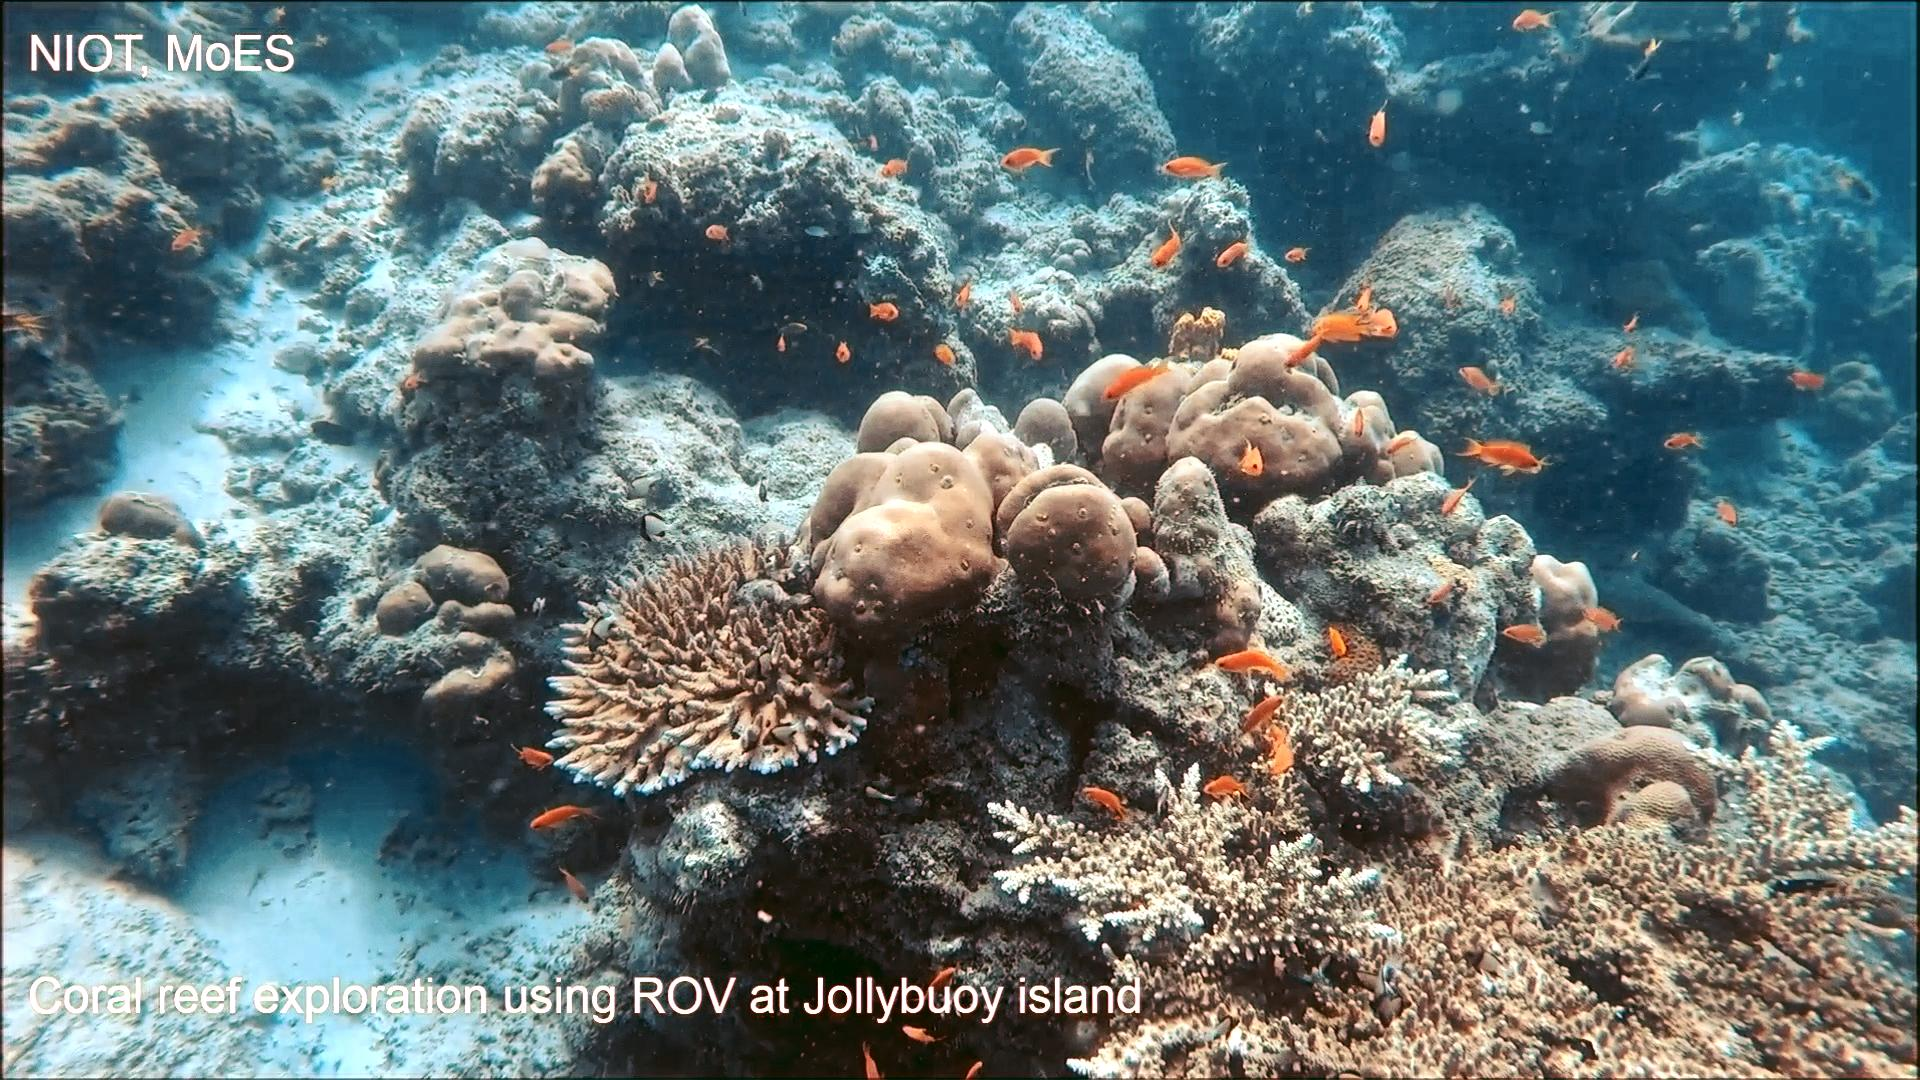Porites-Porites pukoensis: (775, 380, 1139, 653), (1046, 327, 1451, 502)
